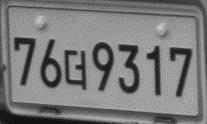1: (142, 43, 169, 97)
3: (116, 42, 140, 94)
6: (38, 37, 63, 88)
7: (11, 35, 37, 86), (168, 46, 193, 98)
9: (91, 41, 115, 91)
더: (63, 48, 88, 91)
